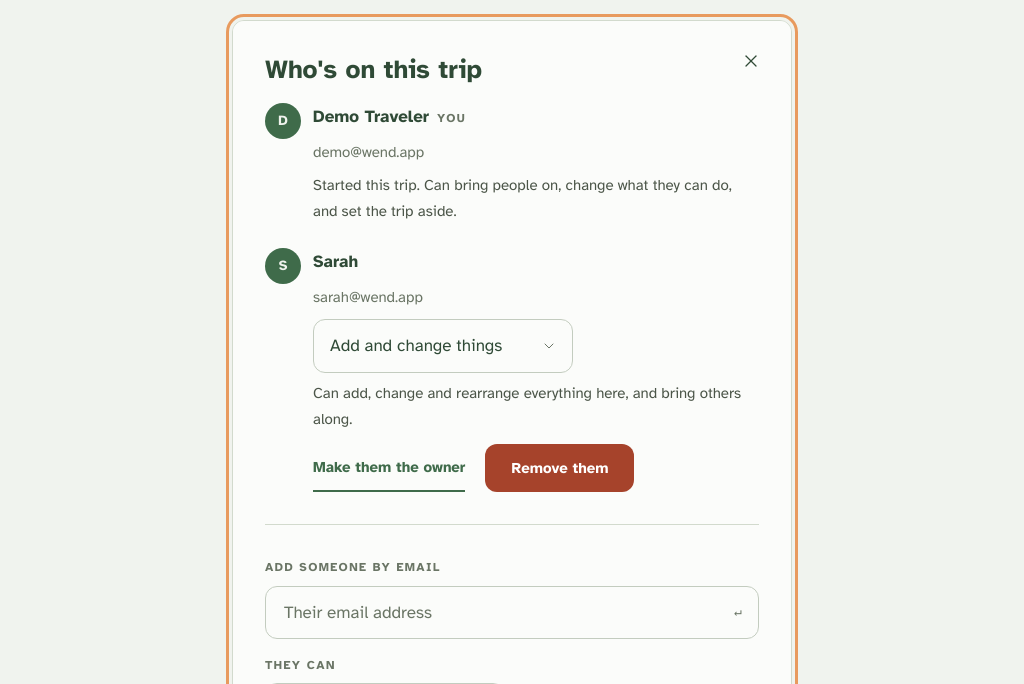
SharePanel › asks before it takes someone off, and does nothing until you say so again
Expected: the text "Sarah" is shown, [313,248,358,277]
Step 1. Click the button "Remove them" → coordinates (560, 468), box [485,444,634,492]
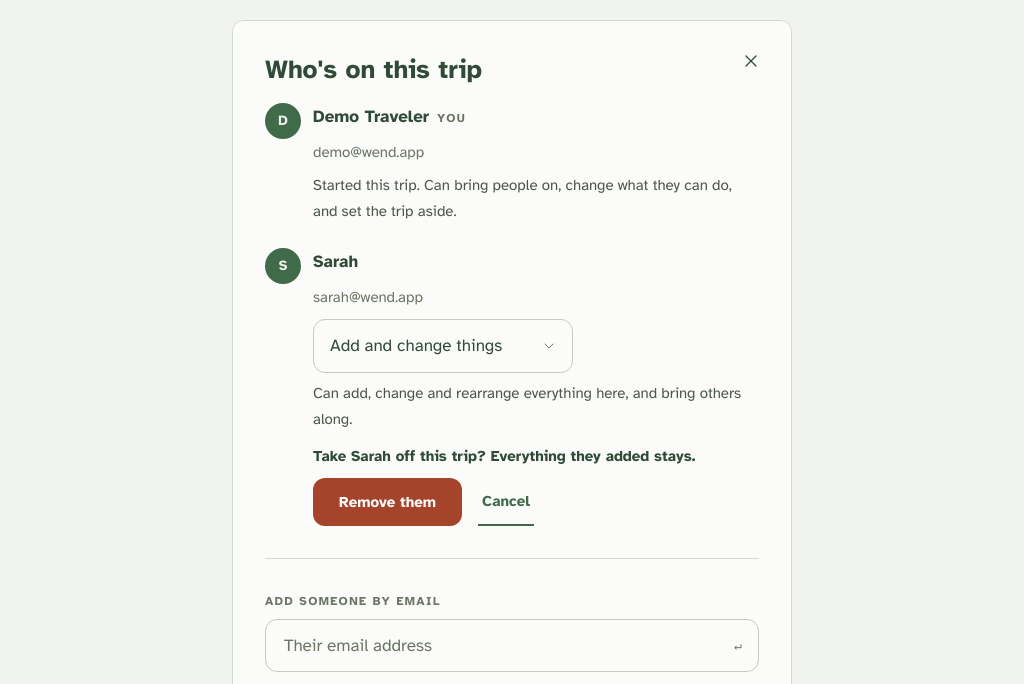
Expected: the text "Sarah" is shown, [313,248,358,277]
Expected: the text "Take Sarah off this trip? Everything they added stays." is shown, [313,444,759,470]
// Backing out leaves her exactly where she was.
Step 2. Click the button "Cancel" → coordinates (506, 502), box [478,478,534,526]
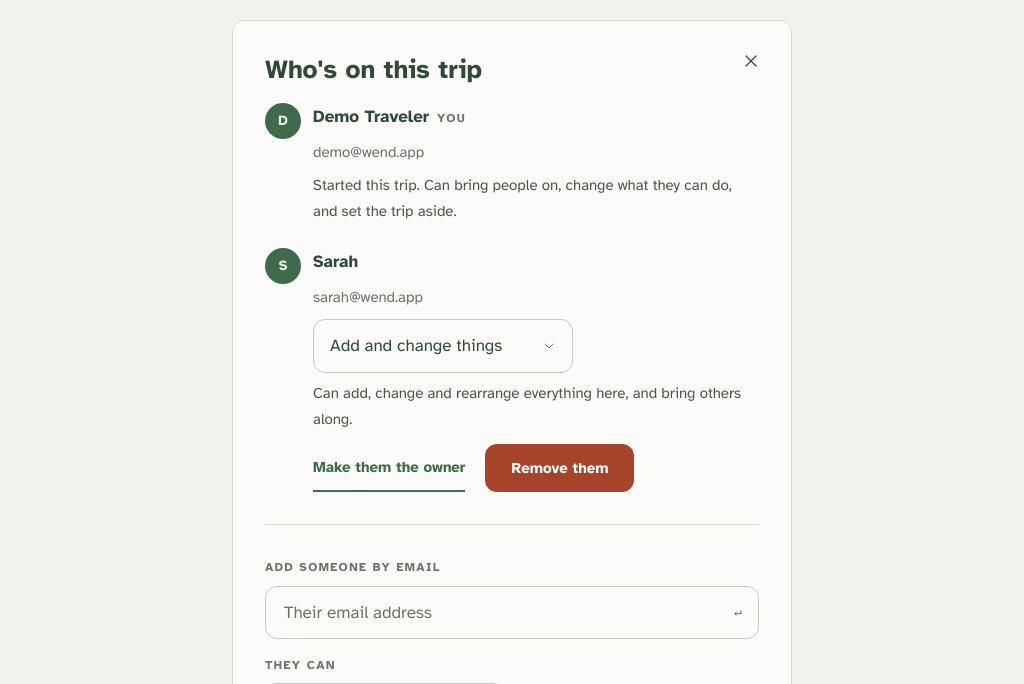
Expected: the text "Sarah" is shown, [313,248,358,277]
Expected: the text "Take Sarah off this trip? Everything they added stays." is gone
Step 3. Click the button "Remove them" → coordinates (560, 468), box [485,444,634,492]
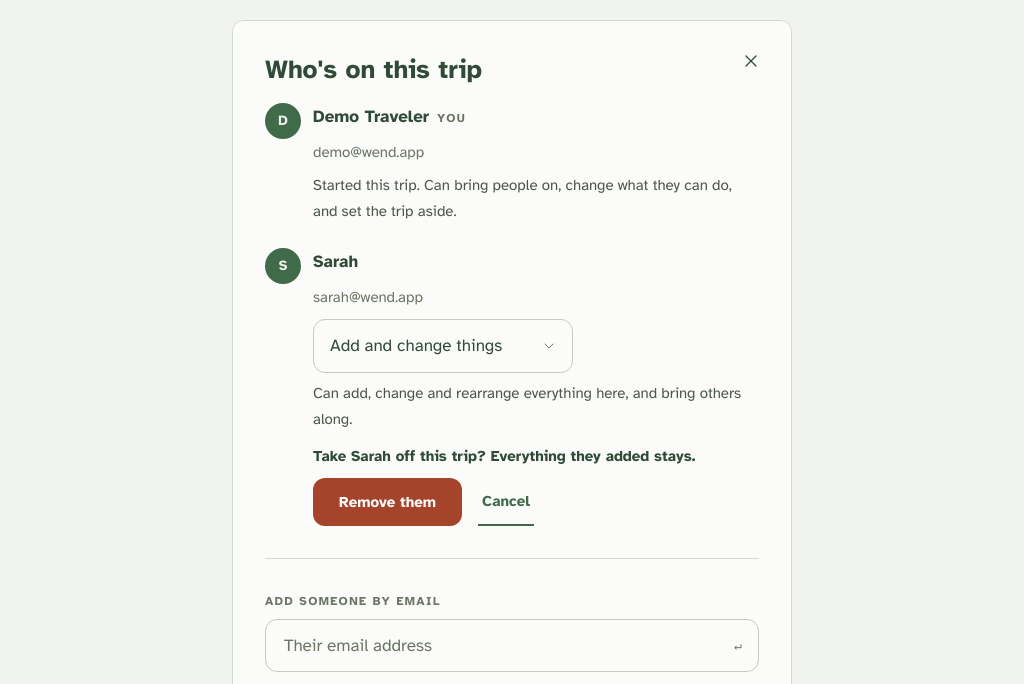
Step 4. Click the button "Remove them" → coordinates (388, 502), box [313,478,462,526]
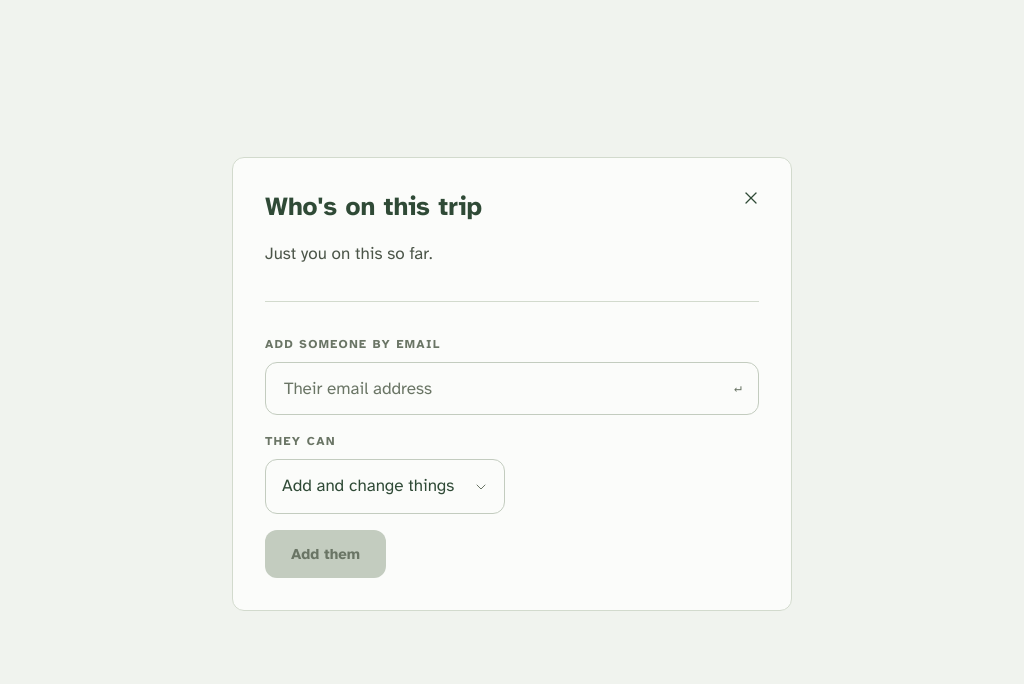
Expected: the text "Sarah" is gone
